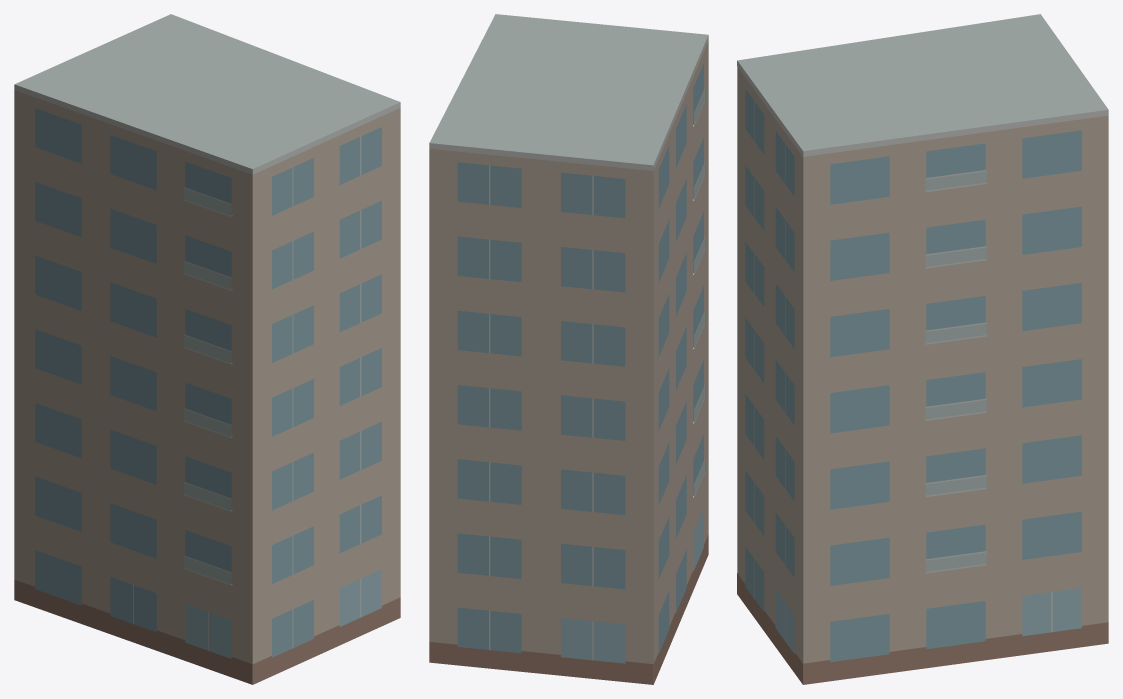
The model's file is survey-upis-32570283.glb.
The picture shows the model from 3 angles, left to right: view 1: azimuth 30°, elevation 25°; view 2: azimuth 150°, elevation 25°; view 3: azimuth 270°, elevation 25°; orthographic projection. The views are drawn at different scales.
Parts seen in each view (by area): view 1: survey-upis-32570283.tmp; view 2: survey-upis-32570283.tmp; view 3: survey-upis-32570283.tmp.
Part boxes in pixels (bbox=[...]): survey-upis-32570283.tmp: bbox=[14, 14, 400, 684]; survey-upis-32570283.tmp: bbox=[429, 14, 708, 684]; survey-upis-32570283.tmp: bbox=[737, 14, 1108, 684].
Bounding box in the file's own units: 12.46 × 22.6 × 14.27.
